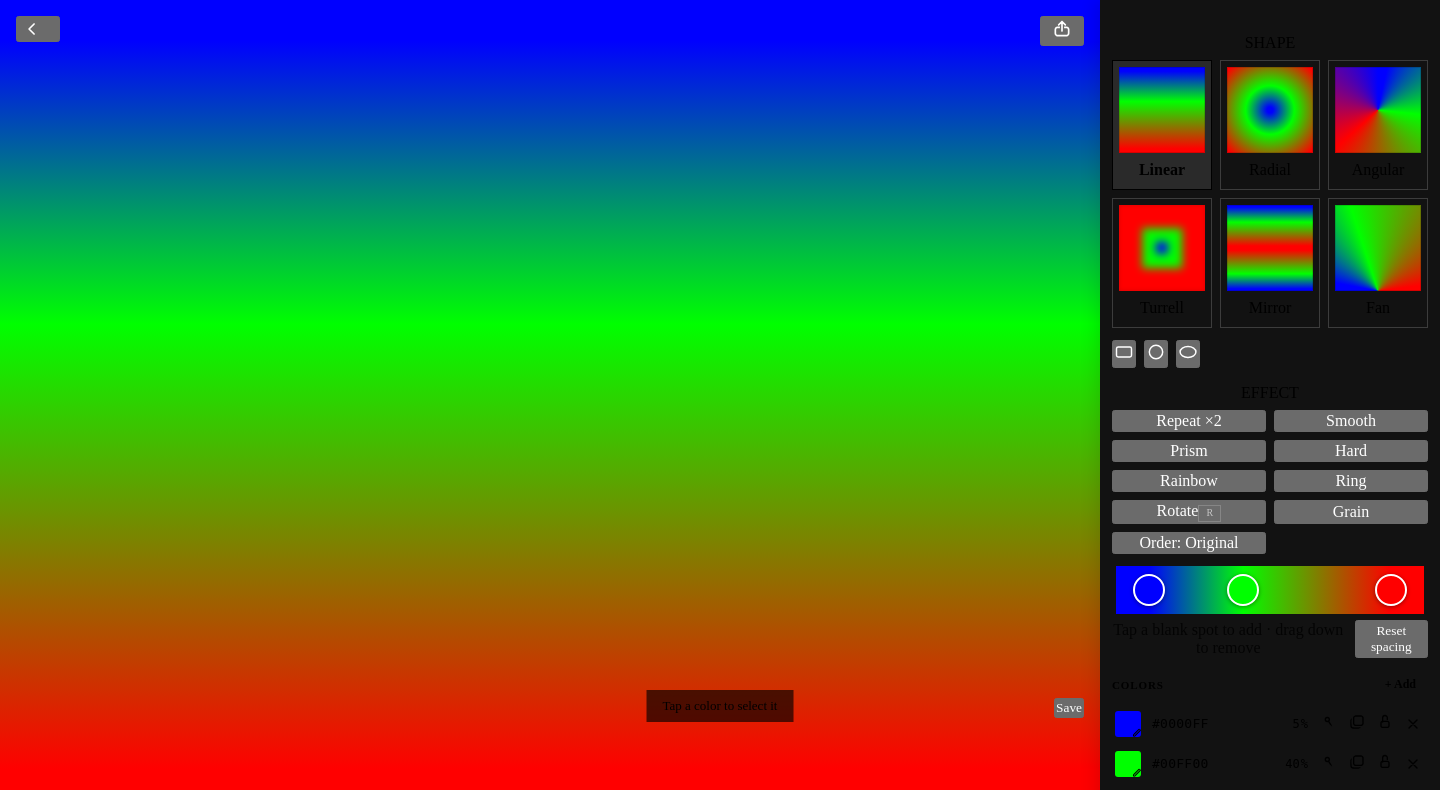
Scenario: EditMode › carries the placements through every step of the order cycle and back
Click the button with test id "sort-button": click(1189, 542) [1112,532,1266,554]
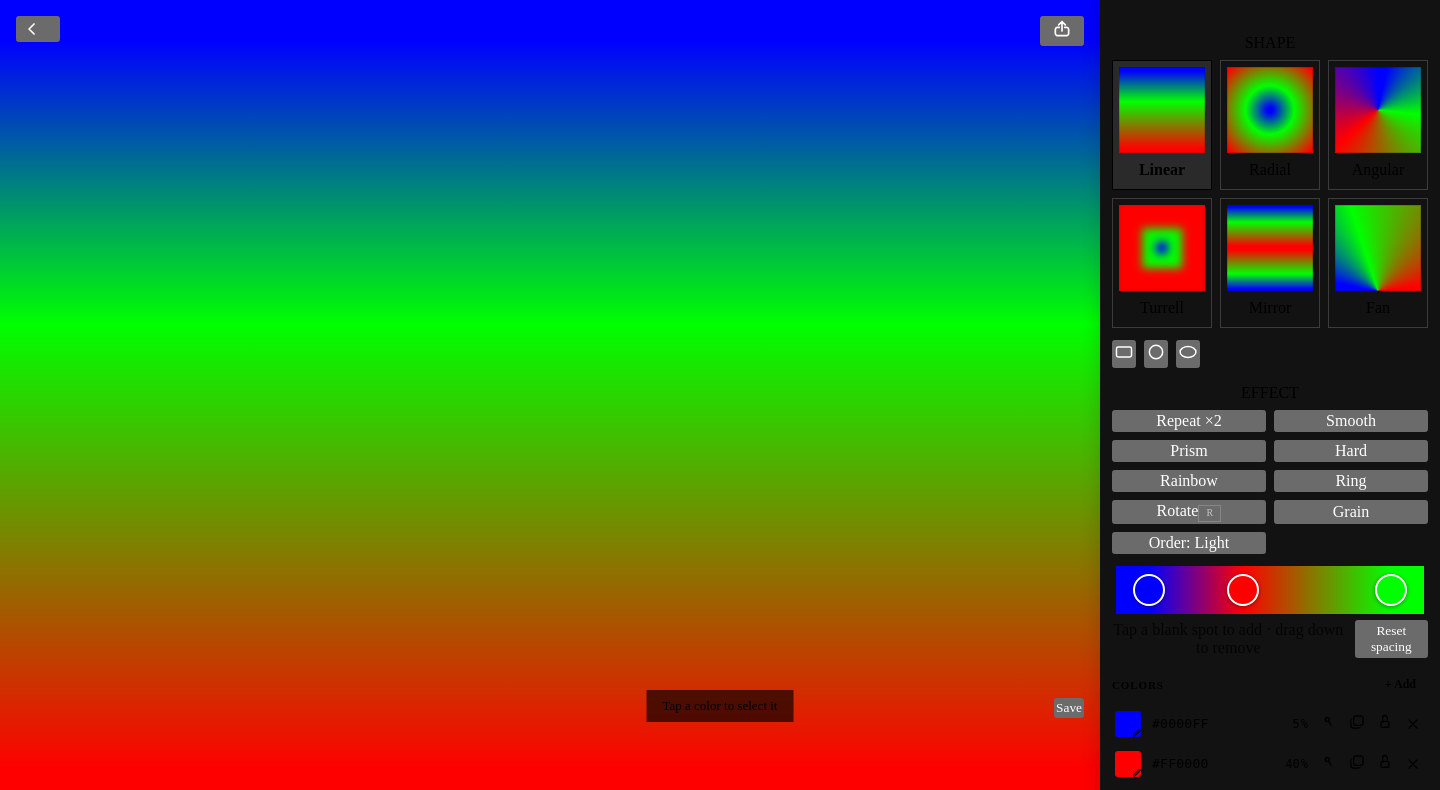
Click the button with test id "sort-button": click(1189, 542) [1112,532,1266,554]
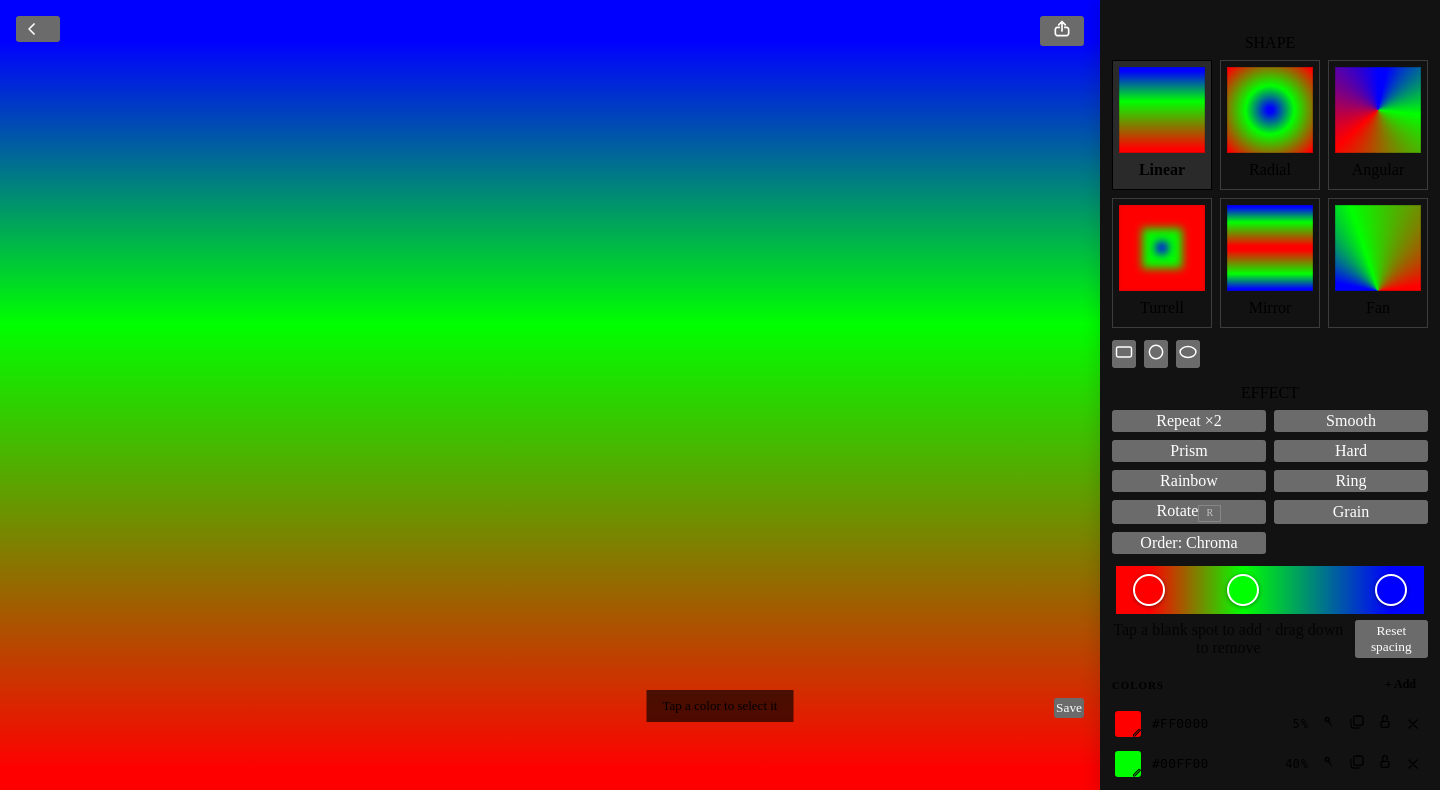
Click the button with test id "sort-button": click(1189, 542) [1112,532,1266,554]
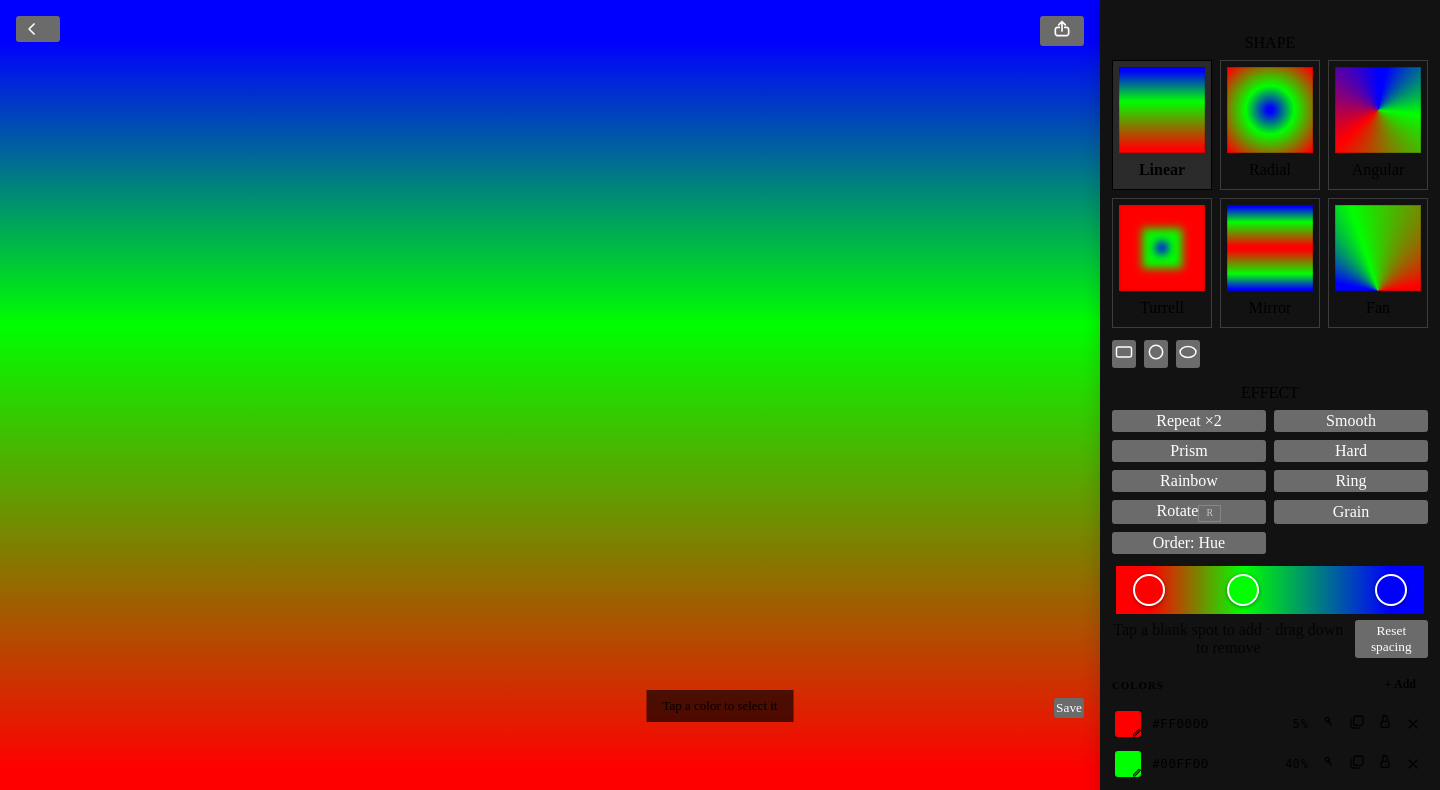
Click the button with test id "sort-button": click(1189, 542) [1112,532,1266,554]
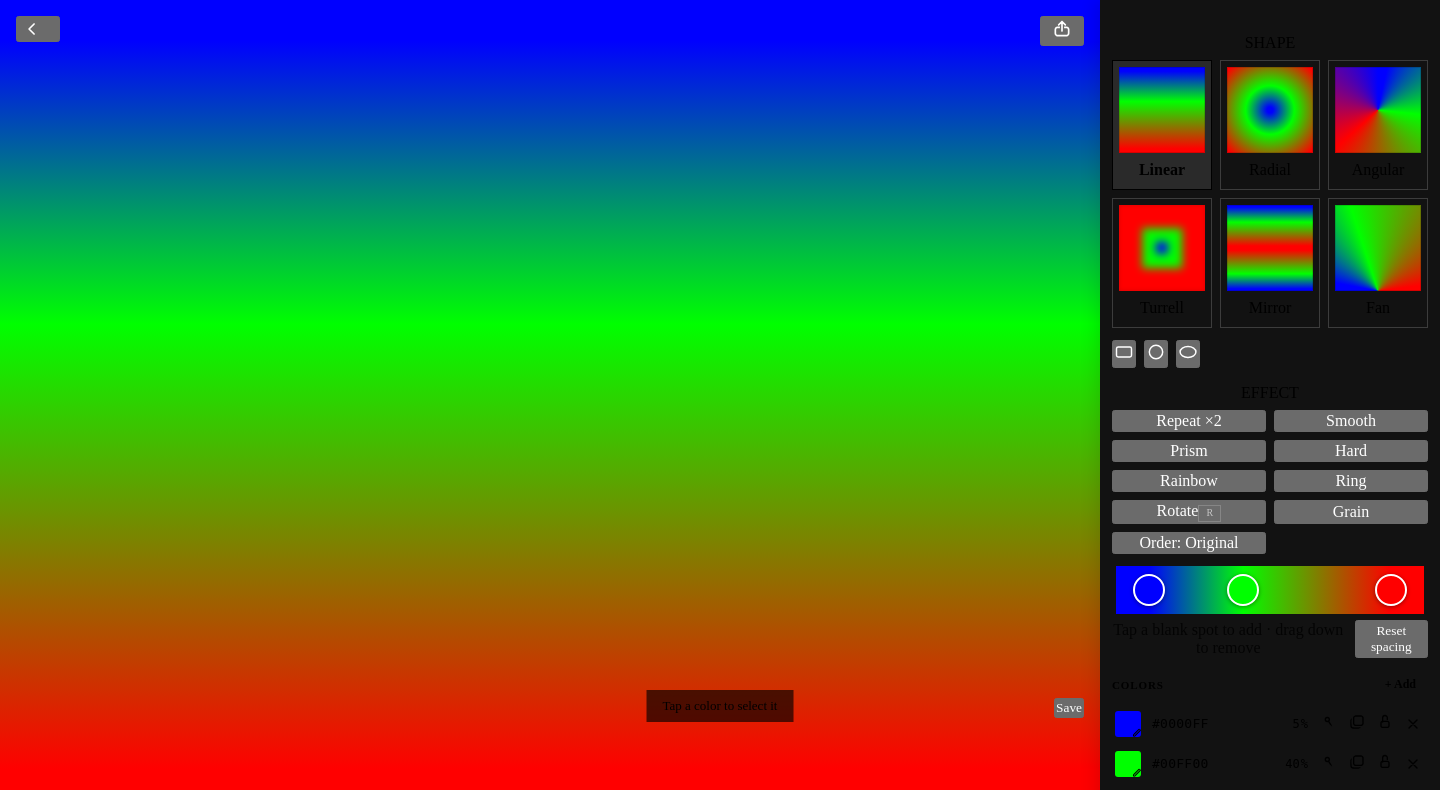
Expected: the button with test id "sort-button" reads "Order: Original", [1112,532,1266,554]
